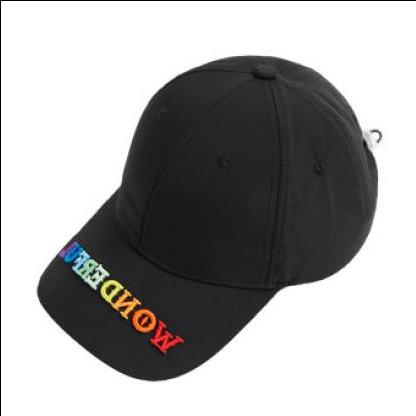cap: (27, 41, 393, 386)
